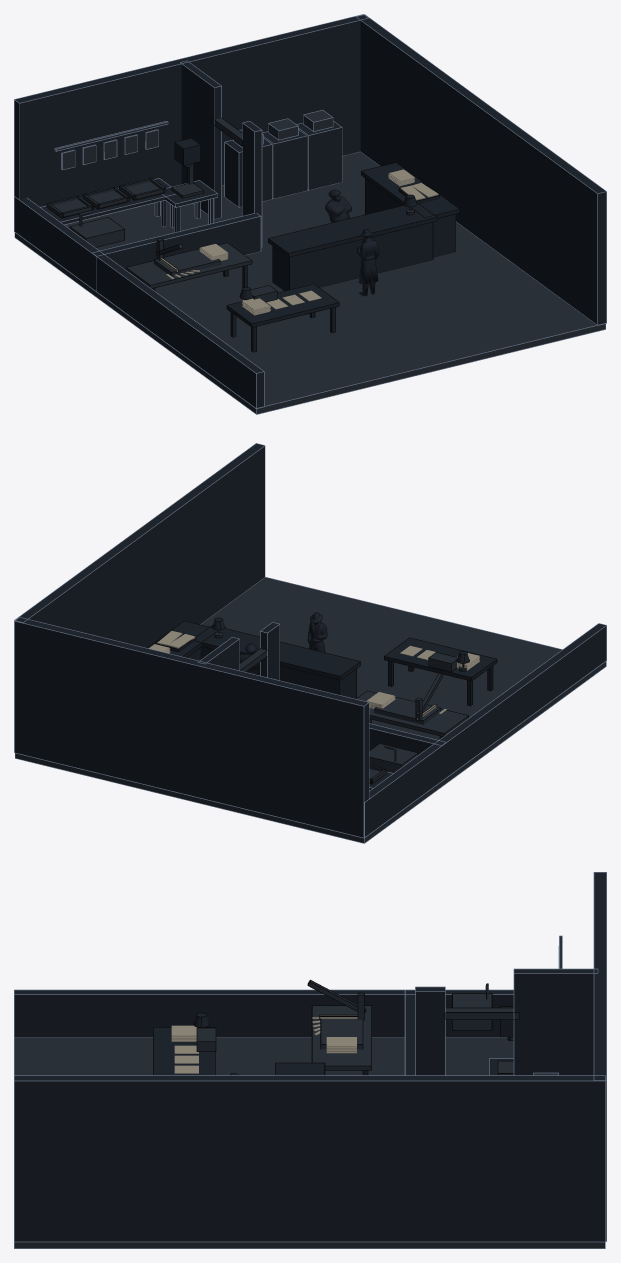
File: 照相馆交涉.fbx
3 views of the same model, one above another, from view 1: azimuth 30°, elevation 25°; view 2: azimuth 150°, elevation 25°; view 3: azimuth 270°, elevation 25° (orthographic). The views are drawn at different scales.
Visible parts, largest first — view 1: 店内地板, 右墙.002, 后墙.001, 左侧低墙, 描线_focus_照相馆交涉_暗, 柜台前柜, 描线_focus_照相馆交涉, 暗房隔墙上段, 暗房前墙, 柜台台面, 后柜1, 后柜2 (+13 smaller); view 2: 后墙.001, 右墙.002, 店内地板, 左侧低墙, 描线_focus_照相馆交涉_暗, 描线_focus_照相馆交涉, 柜台台面, 相纸比对台桌面, 柜台前柜, 裁纸工作台桌面, 暗房前墙, 暗房门边 (+5 smaller); view 3: 右墙.002, 左侧低墙, 店内地板, 暗房隔墙上段, 描线_focus_照相馆交涉_暗, 后墙.001, 暗房门边, 裁纸工作台桌面, 描线_focus_照相馆交涉, 相纸比对台桌面, 冲洗槽, 裁纸器底板 (+3 smaller).
Boxes of the visible parts, left/top/right/bottom form: 店内地板: left=15, top=152, right=605, bottom=413; 右墙.002: left=356, top=15, right=606, bottom=324; 后墙.001: left=14, top=15, right=367, bottom=206; 左侧低墙: left=14, top=197, right=263, bottom=407; 描线_focus_照相馆交涉_暗: left=14, top=14, right=606, bottom=414; 柜台前柜: left=272, top=222, right=432, bottom=290; 描线_focus_照相馆交涉: left=46, top=118, right=460, bottom=352; 暗房隔墙上段: left=181, top=62, right=221, bottom=218; 暗房前墙: left=94, top=213, right=260, bottom=269; 柜台台面: left=268, top=204, right=436, bottom=256; 后柜1: left=262, top=130, right=306, bottom=198; 后柜2: left=297, top=121, right=341, bottom=189; 后墙.001: left=15, top=617, right=368, bottom=837; 右墙.002: left=16, top=443, right=264, bottom=647; 店内地板: left=15, top=577, right=605, bottom=842; 左侧低墙: left=365, top=624, right=606, bottom=836; 描线_focus_照相馆交涉_暗: left=14, top=443, right=606, bottom=843; 描线_focus_照相馆交涉: left=147, top=617, right=497, bottom=784; 柜台台面: left=195, top=625, right=360, bottom=679; 相纸比对台桌面: left=384, top=638, right=496, bottom=680; 柜台前柜: left=200, top=647, right=356, bottom=698; 裁纸工作台桌面: left=357, top=691, right=468, bottom=736; 暗房前墙: left=369, top=724, right=437, bottom=754; 暗房门边: left=260, top=622, right=279, bottom=680; 右墙.002: left=14, top=1076, right=604, bottom=1241; 左侧低墙: left=14, top=990, right=513, bottom=1037; 店内地板: left=14, top=1037, right=604, bottom=1248; 暗房隔墙上段: left=514, top=969, right=597, bottom=1075; 描线_focus_照相馆交涉_暗: left=14, top=872, right=606, bottom=1248; 后墙.001: left=594, top=872, right=606, bottom=1240; 暗房门边: left=416, top=987, right=444, bottom=1075; 裁纸工作台桌面: left=312, top=1006, right=371, bottom=1069; 描线_focus_照相馆交涉: left=153, top=979, right=519, bottom=1075; 相纸比对台桌面: left=153, top=1027, right=214, bottom=1075; 冲洗槽: left=452, top=994, right=491, bottom=1029; 裁纸器底板: left=321, top=1019, right=362, bottom=1049.
Bounding box in the file's own units: 1006 × 378 × 1205.
